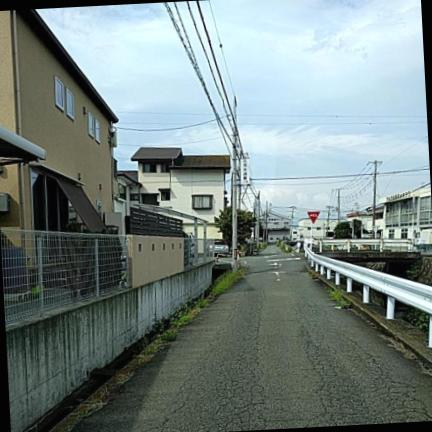Road: (73, 247, 431, 431)
